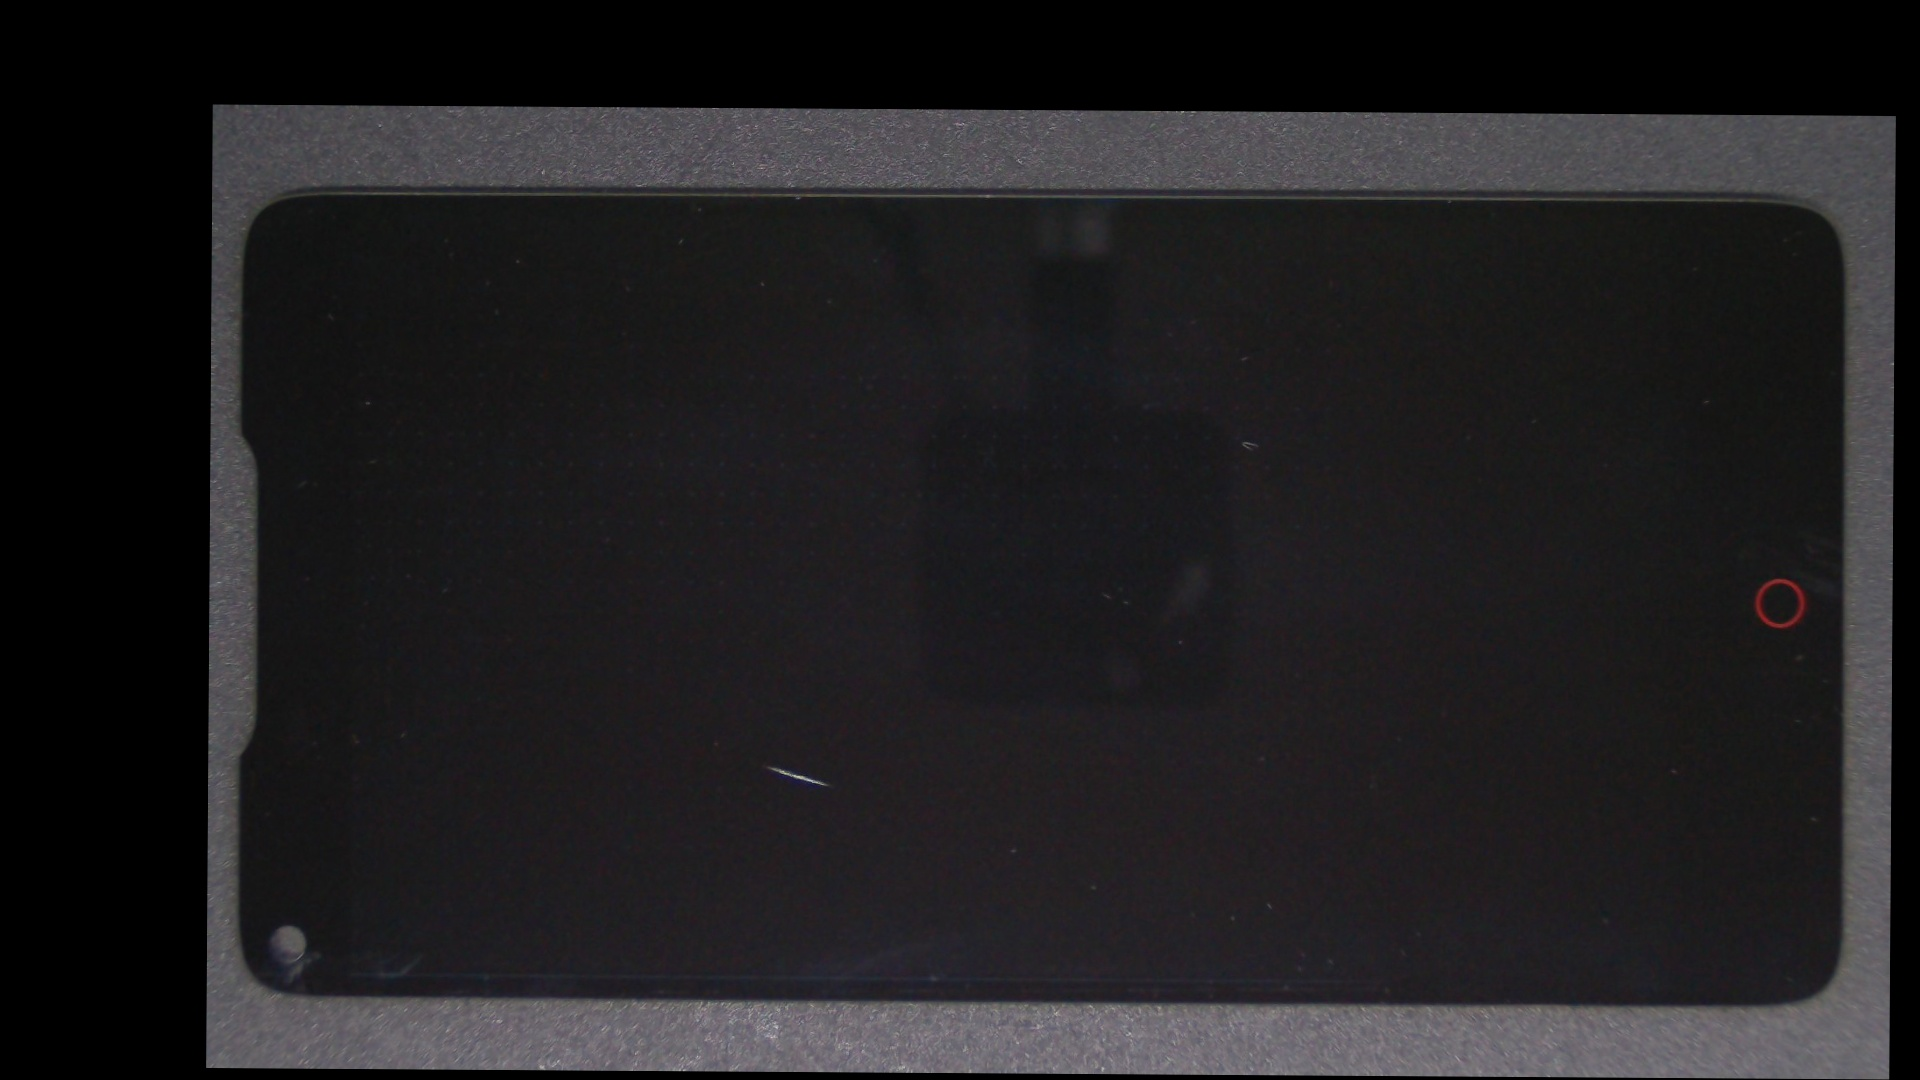oil: (485, 434, 1046, 1073)
